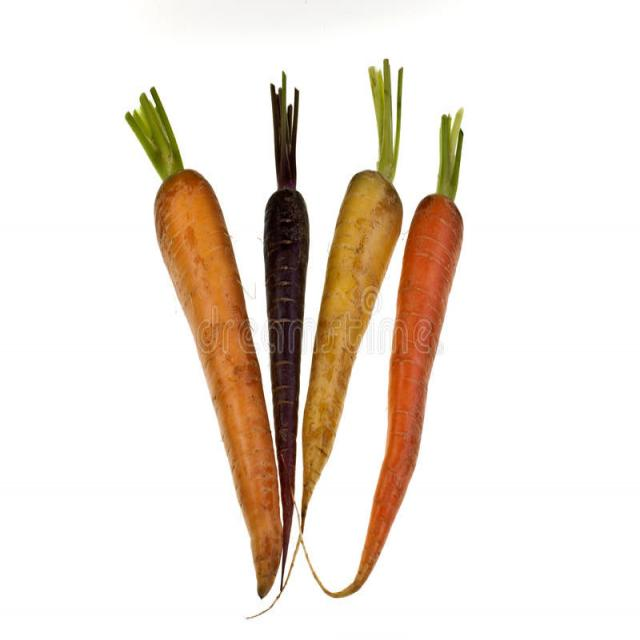Carrot: (124, 103, 284, 605), (348, 111, 472, 584), (300, 64, 404, 545), (261, 91, 309, 602)
